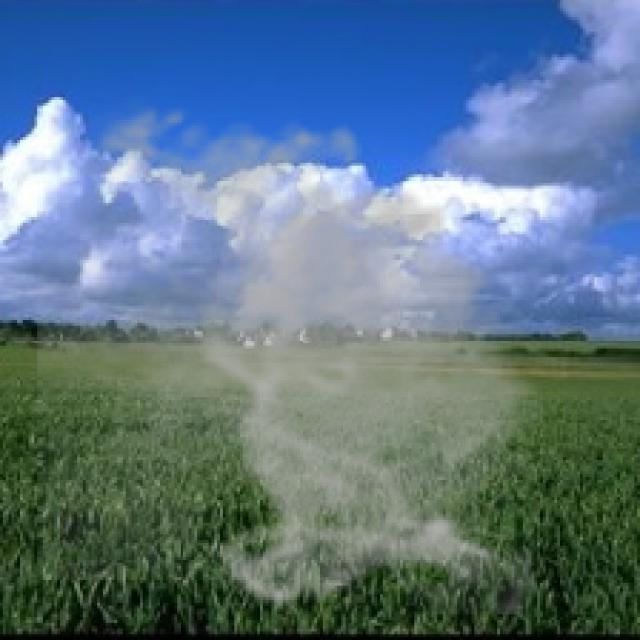smoke: (37, 91, 563, 614)
